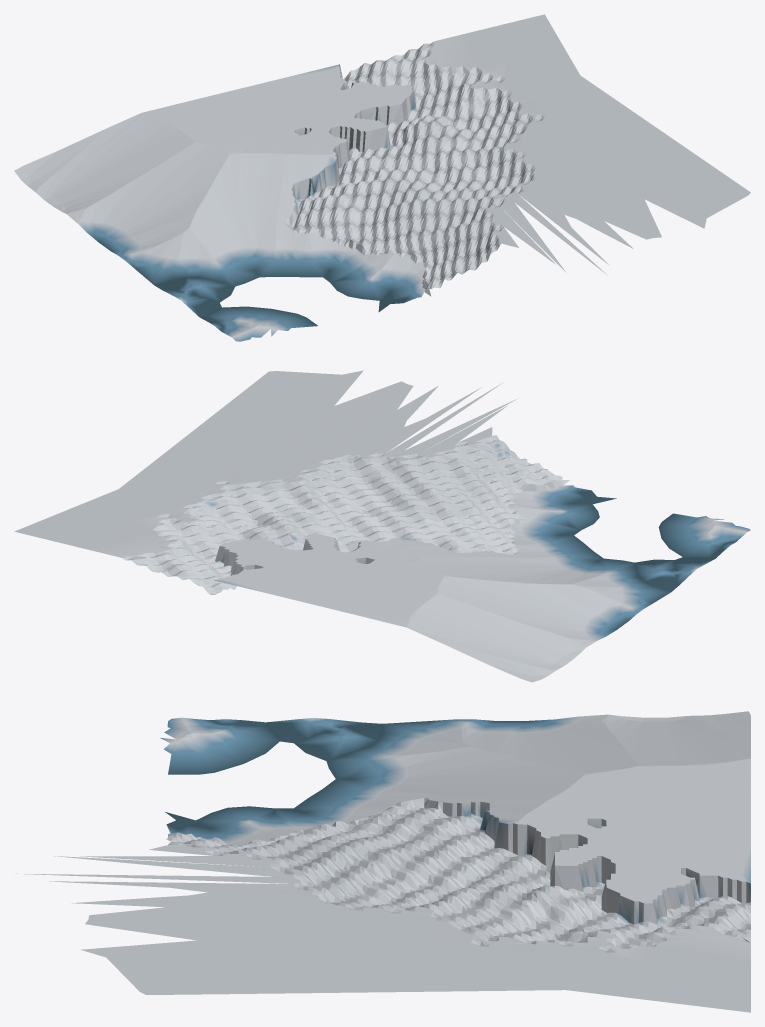
Rendered from frost_tile_x0z0_lod1.glb.
3 renders of one model, top to bottom at view 1: azimuth 30°, elevation 25°; view 2: azimuth 150°, elevation 25°; view 3: azimuth 270°, elevation 25°, orthographic. The views are drawn at different scales.
Parts seen in each view (by area): view 1: geometry_0; view 2: geometry_0; view 3: geometry_0.
Part boxes in pixels (x1,y1,x2,y2): geometry_0: (14,14,750,341); geometry_0: (14,370,750,682); geometry_0: (15,711,750,1012).
Size of the model in its own units: 1023 by 67.43 by 948.
